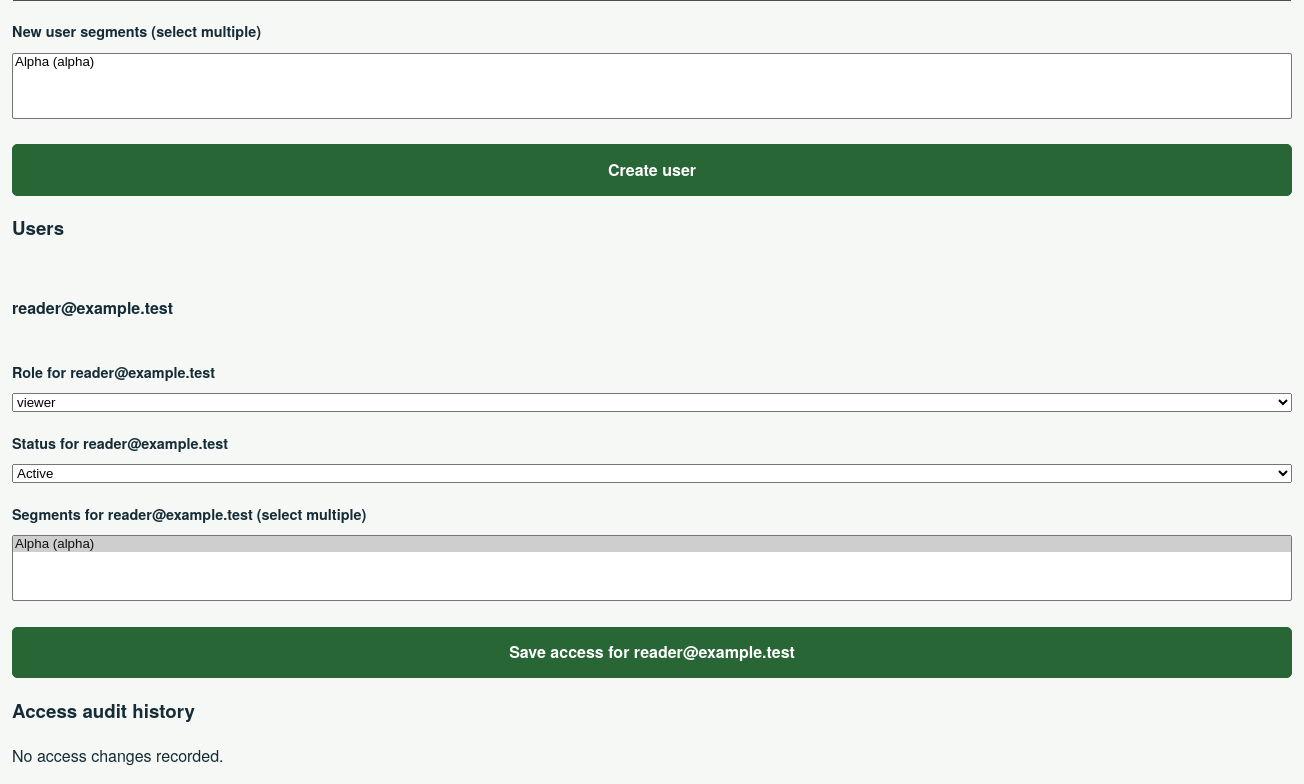
Scenario: user administration › updates role and status and shows the audit history
(page scrolled)
Expected: the heading "reader@example.test" is shown, 12,296 -> 173,319
Select "engineer" in the dropdown labelled "Role for reader@example.test" at x=652, y=403, box 12,393 -> 1292,412
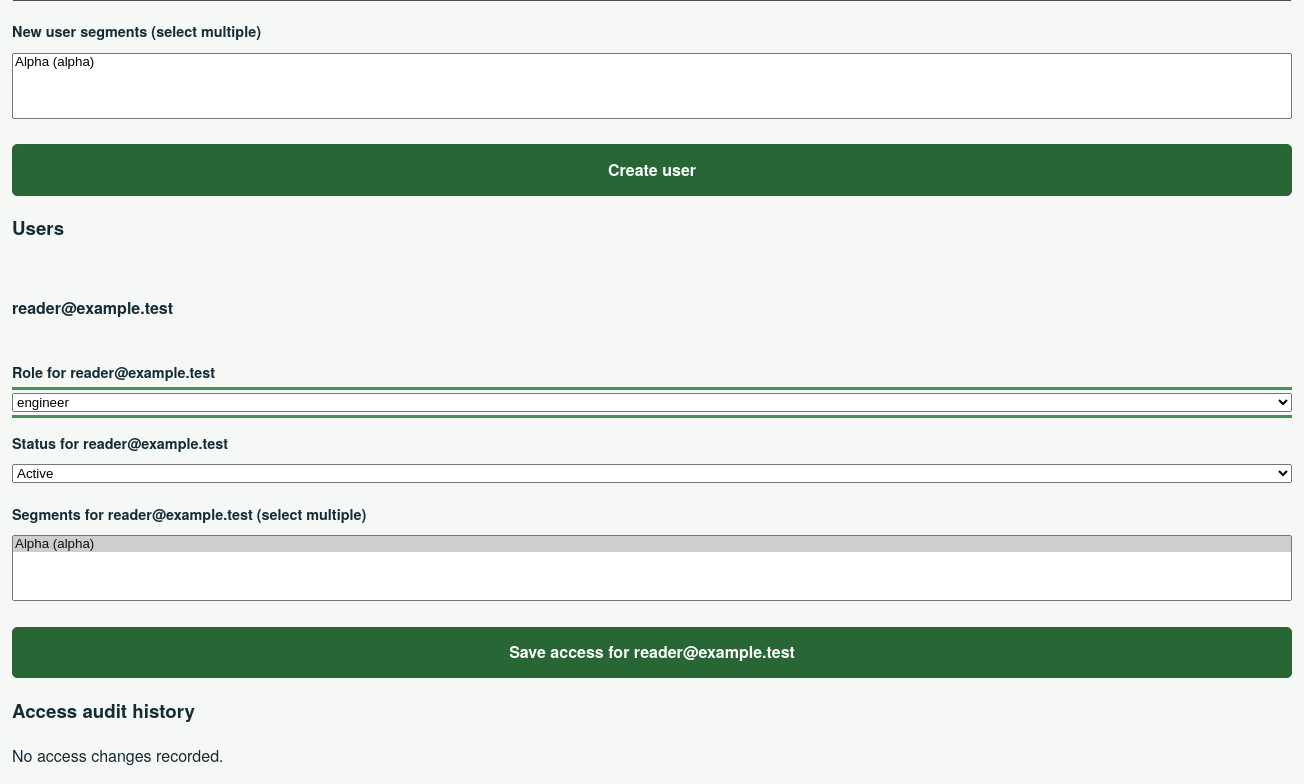
Select "Disabled" in the dropdown labelled "Status for reader@example.test" at x=652, y=474, box 12,464 -> 1292,483
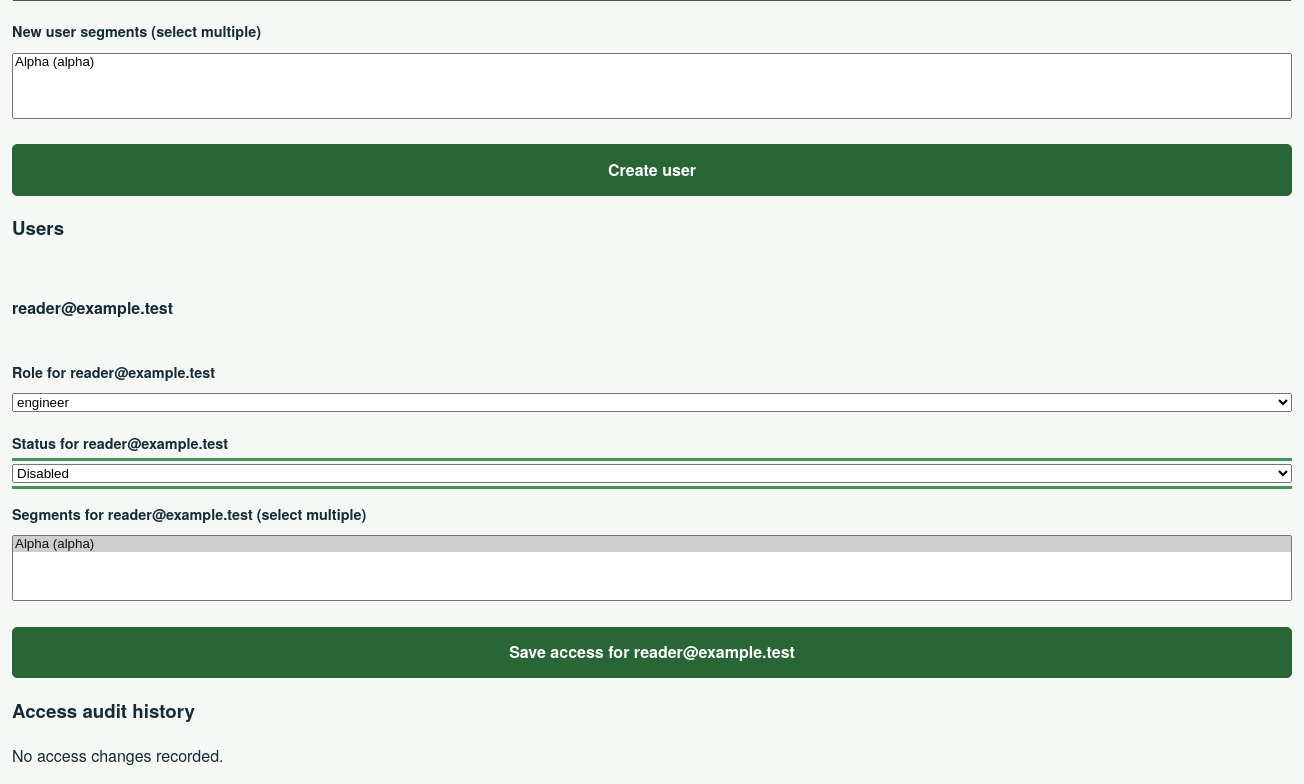
Click the button "Save access for reader@example.test".
click(652, 652)  # box 12,627 -> 1292,678
(page scrolled)
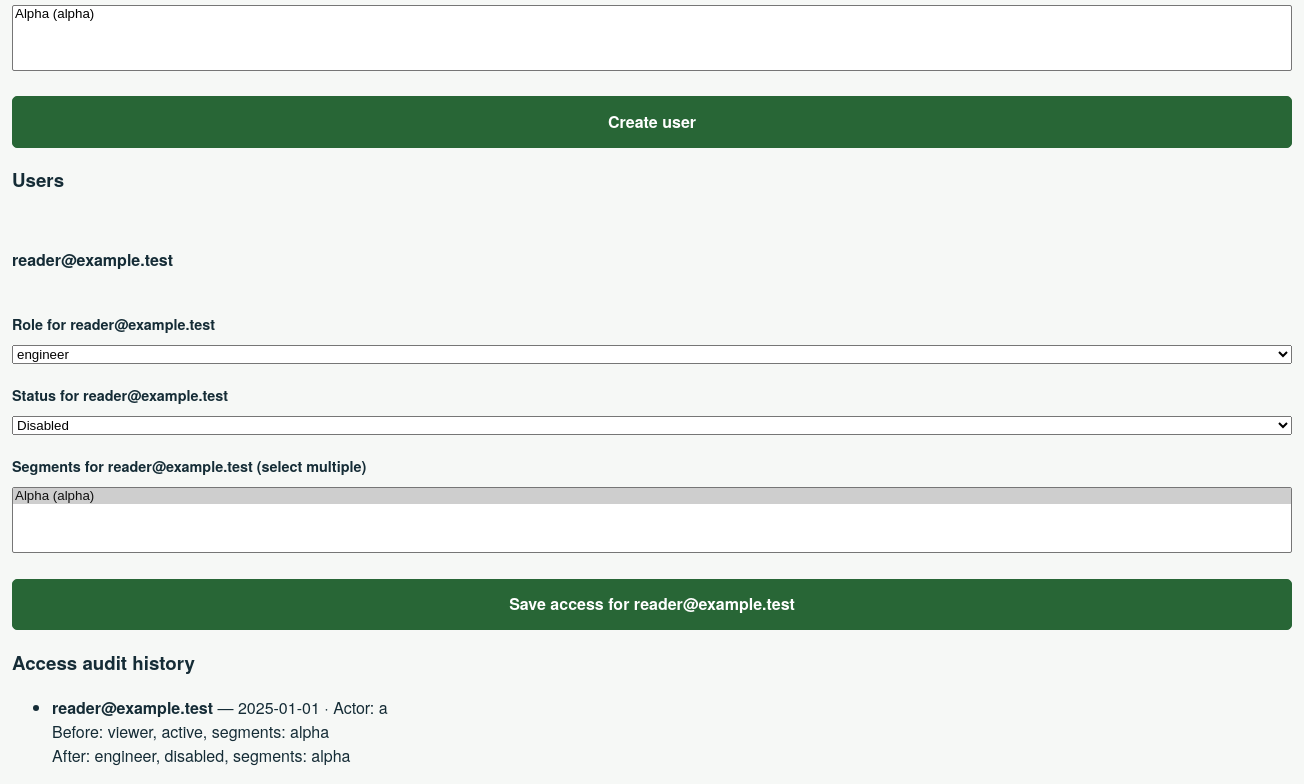
Result: the text "After: engineer, disabled, segments: alpha" is shown at 52,744 -> 350,767
